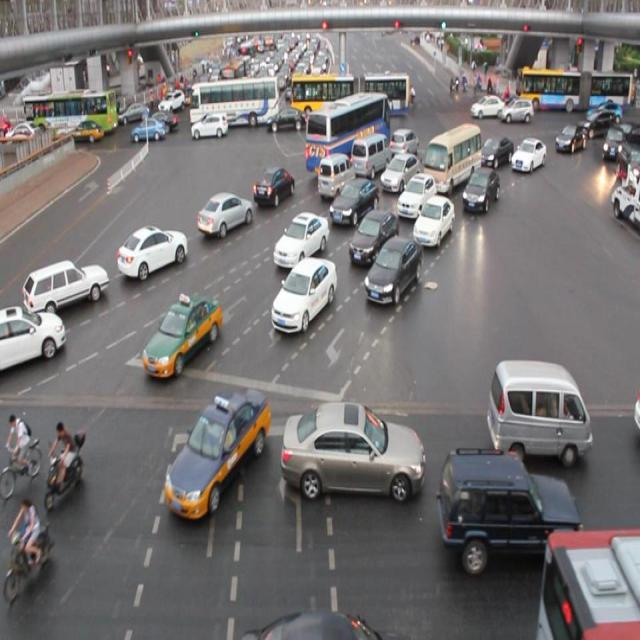car: (436, 446, 581, 571), (280, 400, 424, 504), (161, 389, 271, 521), (141, 298, 222, 378), (23, 256, 109, 320), (269, 256, 337, 334), (1, 302, 66, 378), (360, 232, 421, 310), (117, 222, 188, 279), (343, 209, 396, 272), (274, 212, 329, 272), (197, 189, 253, 238), (412, 192, 455, 252), (326, 178, 378, 224), (391, 173, 433, 223), (460, 166, 499, 212), (254, 165, 297, 205), (380, 150, 421, 188), (510, 134, 545, 175), (476, 134, 512, 168), (390, 126, 419, 161), (554, 123, 585, 151)
truck: (484, 358, 591, 463), (421, 125, 478, 190), (351, 132, 393, 178), (316, 154, 355, 198)
van: (530, 525, 640, 640), (306, 91, 392, 177)
